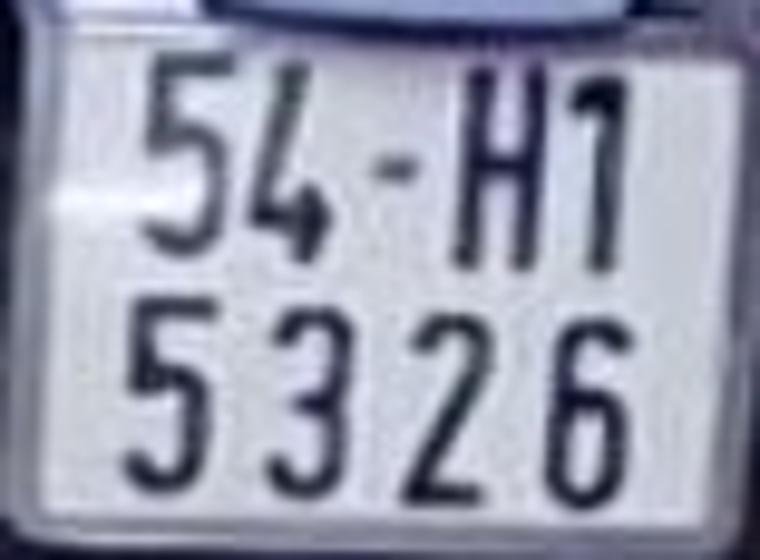-: (369, 155, 409, 181)
1: (572, 75, 622, 267)
2: (401, 313, 481, 508)
3: (267, 310, 347, 500)
4: (257, 60, 330, 263)
5: (126, 295, 213, 490), (146, 51, 223, 253)
6: (547, 313, 626, 508)
H: (453, 64, 542, 267)
